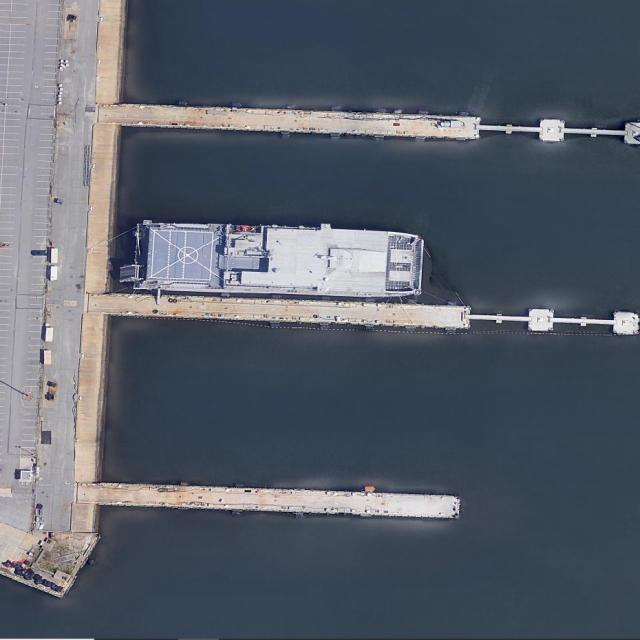Auxiliary Ships: (134, 220, 425, 301)
Dock: (109, 290, 469, 329), (97, 480, 458, 518), (120, 102, 480, 139)
